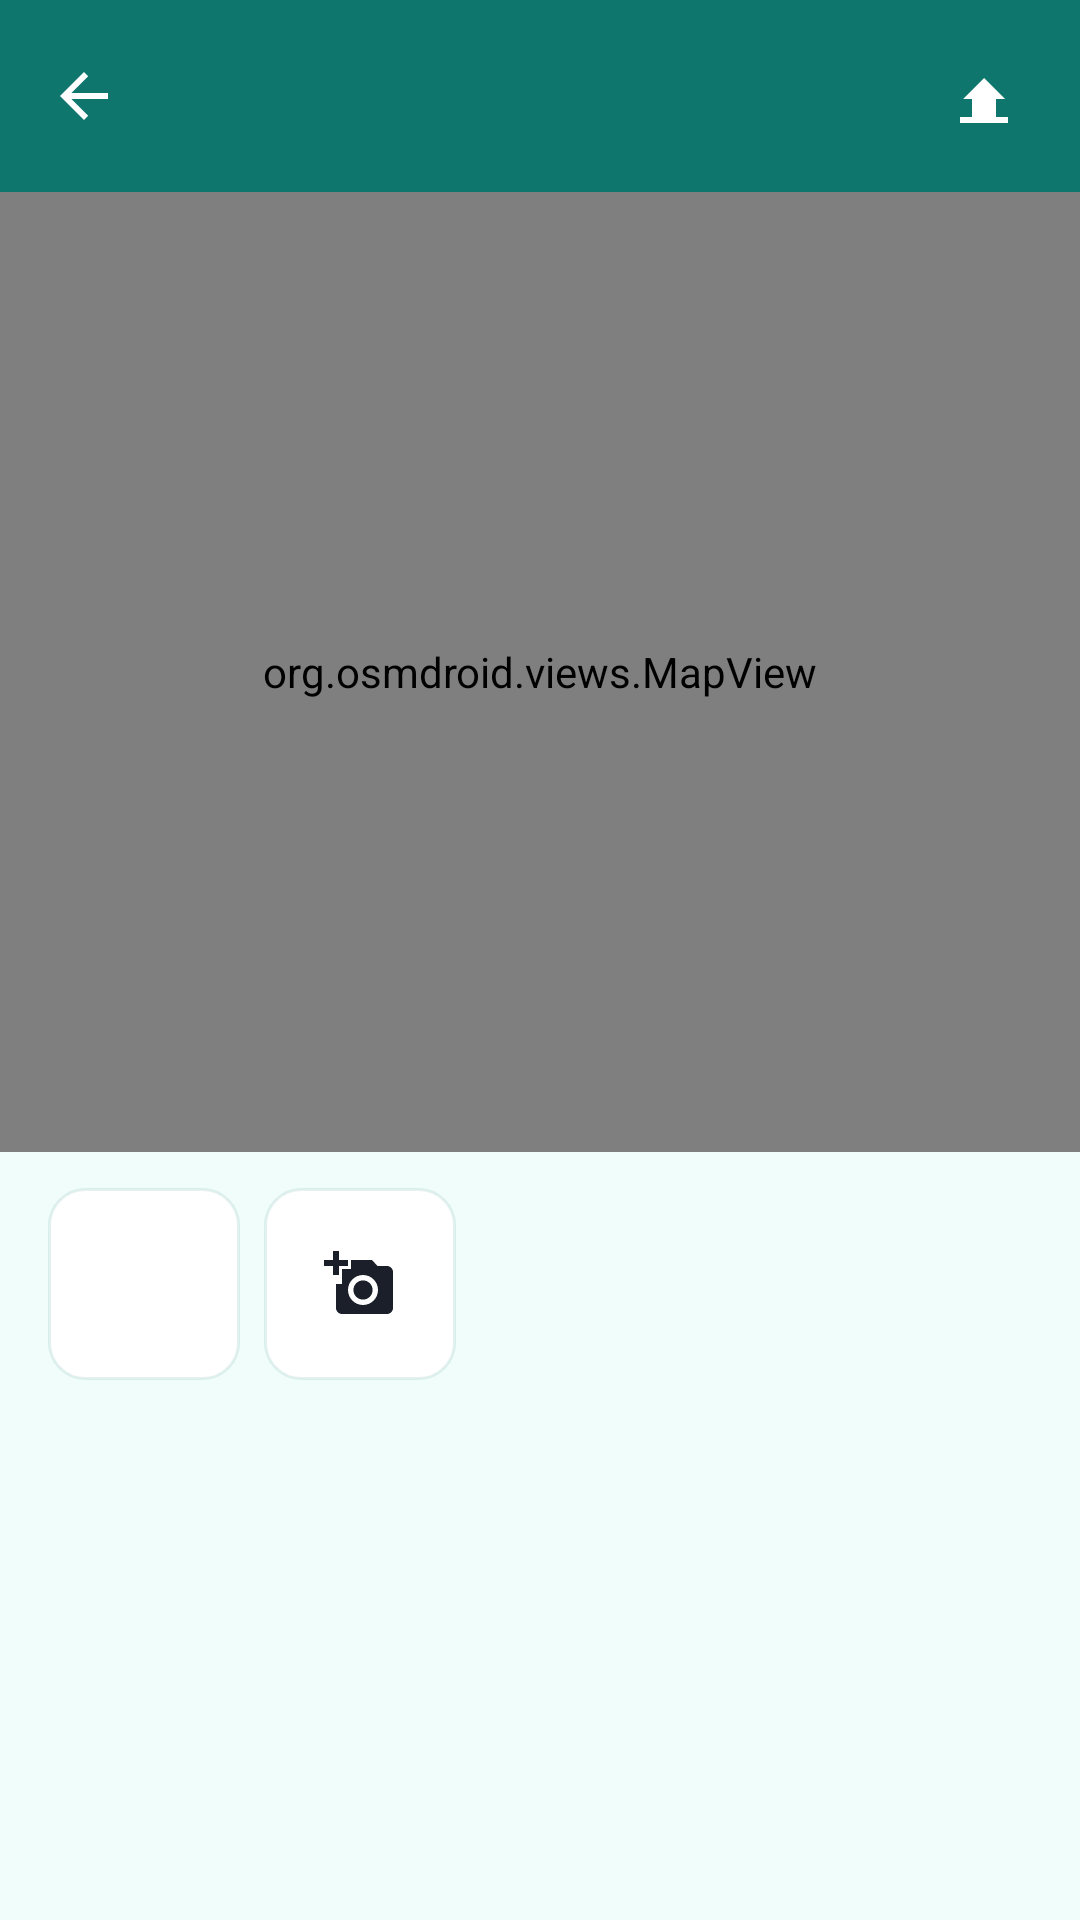

Where to tap for icons on this 1080px x 1920px app screen, as point (x, y):
Fotoğraf ekle: point (358, 1282)
GPX dışa aktar: point (984, 100)
